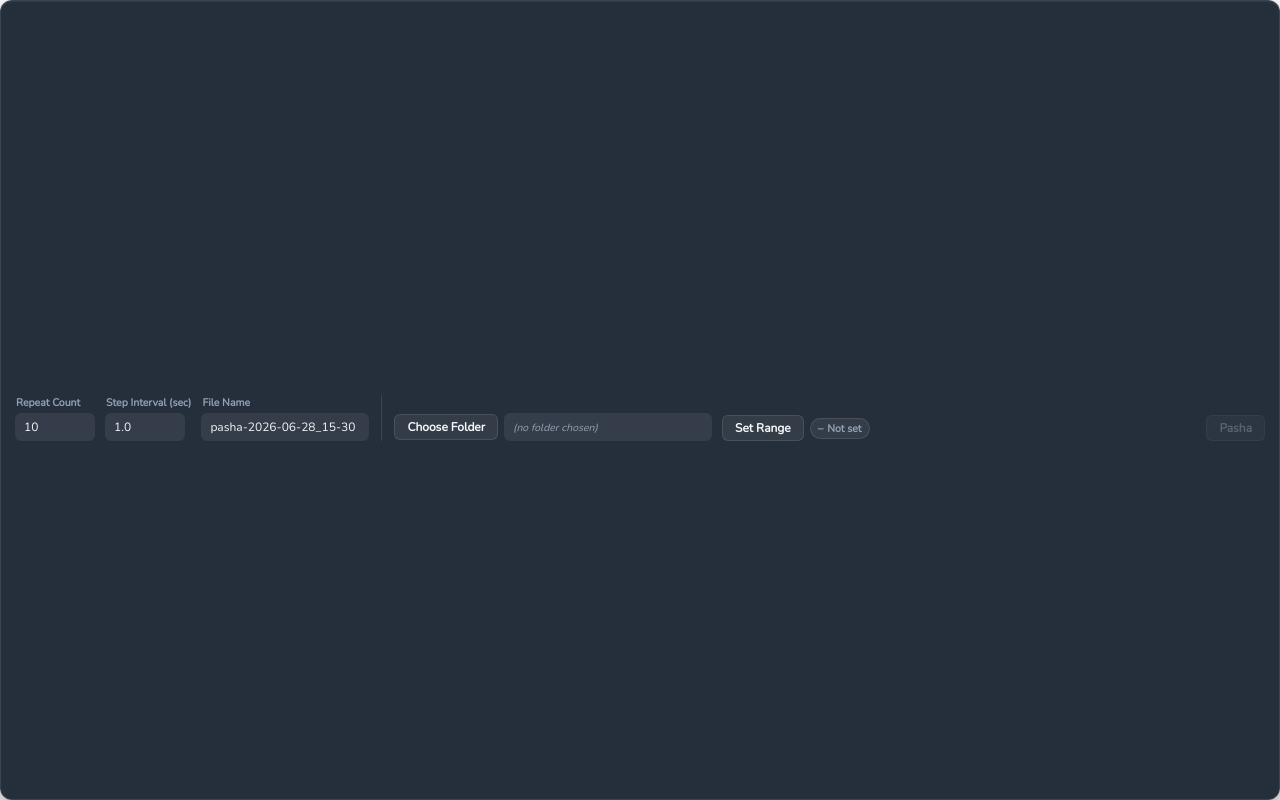
Scenario: App › cancels region selection when Escape is pressed
Click the button "Set Range" at (763, 428), box [722,415,804,441]
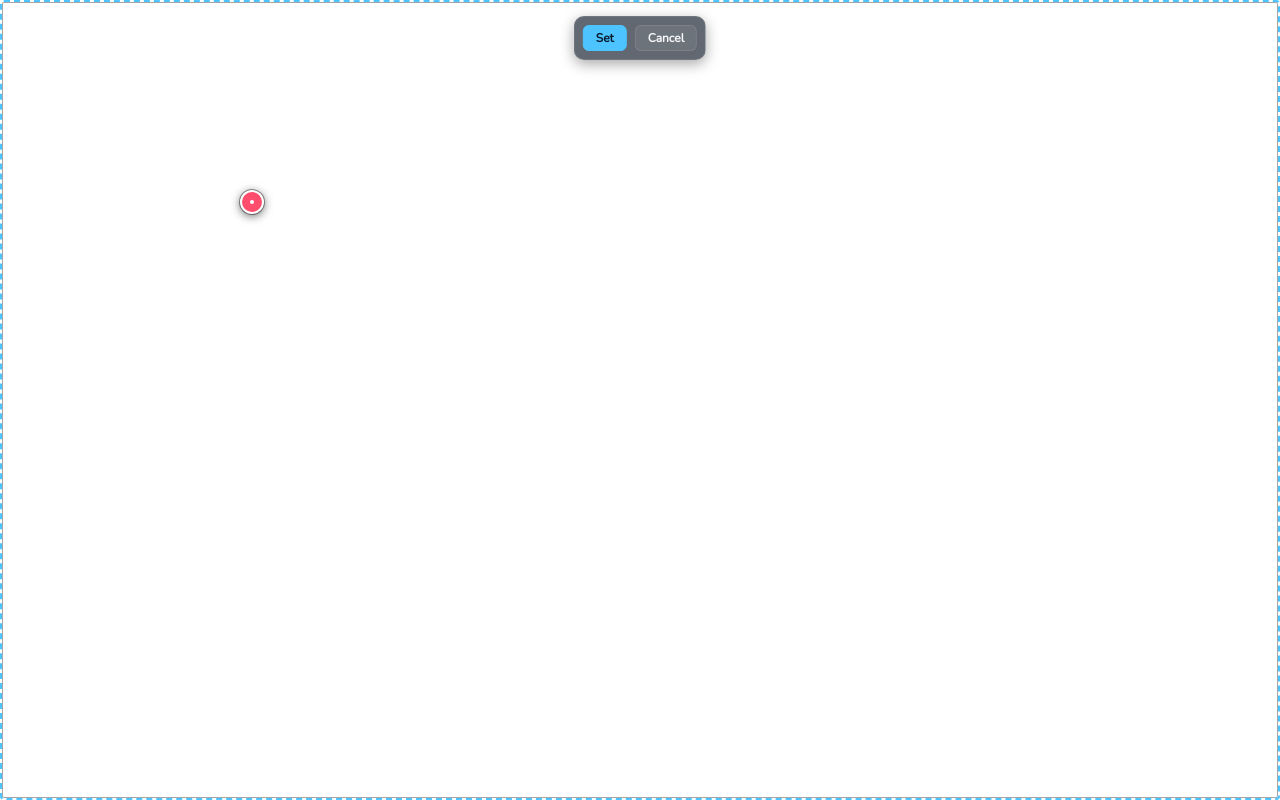
Now the dialog is shown
Press Escape
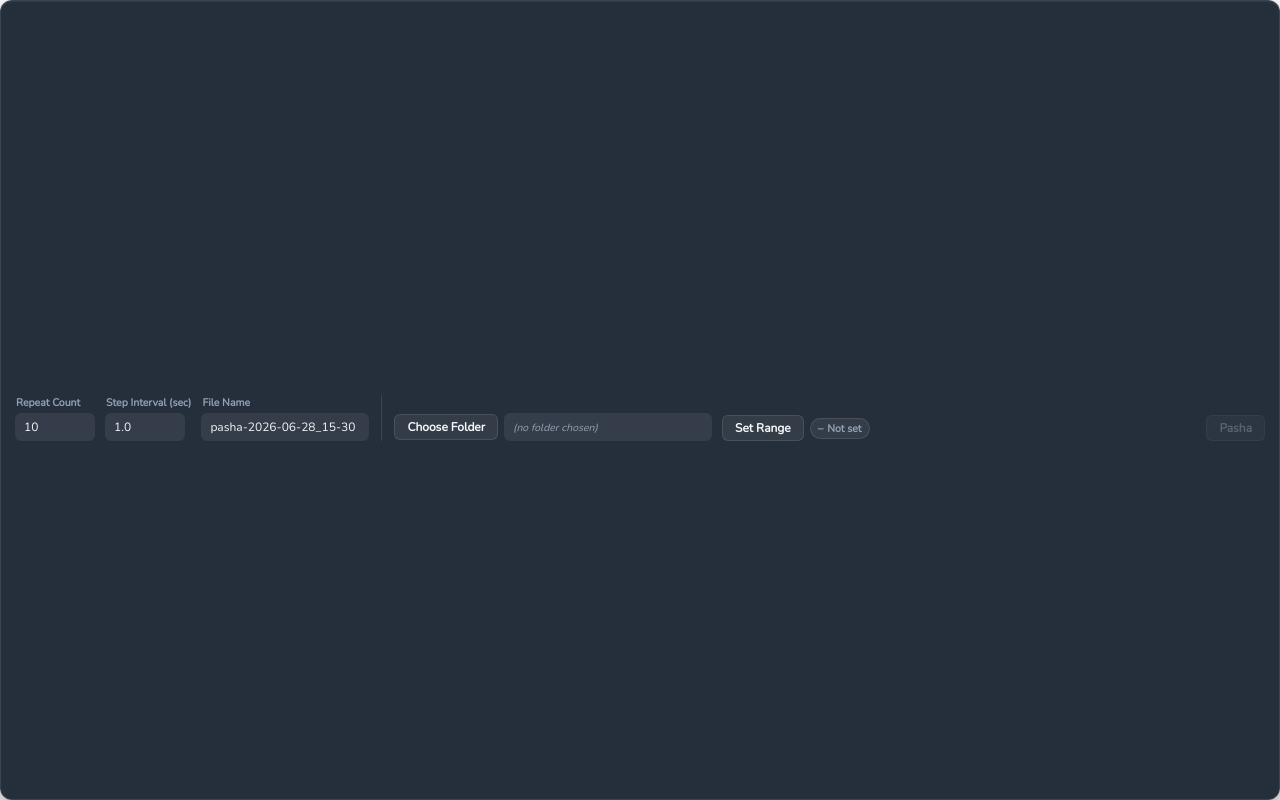
Now the dialog is gone
Now the message shows "Not set", box [827,420,862,436]
